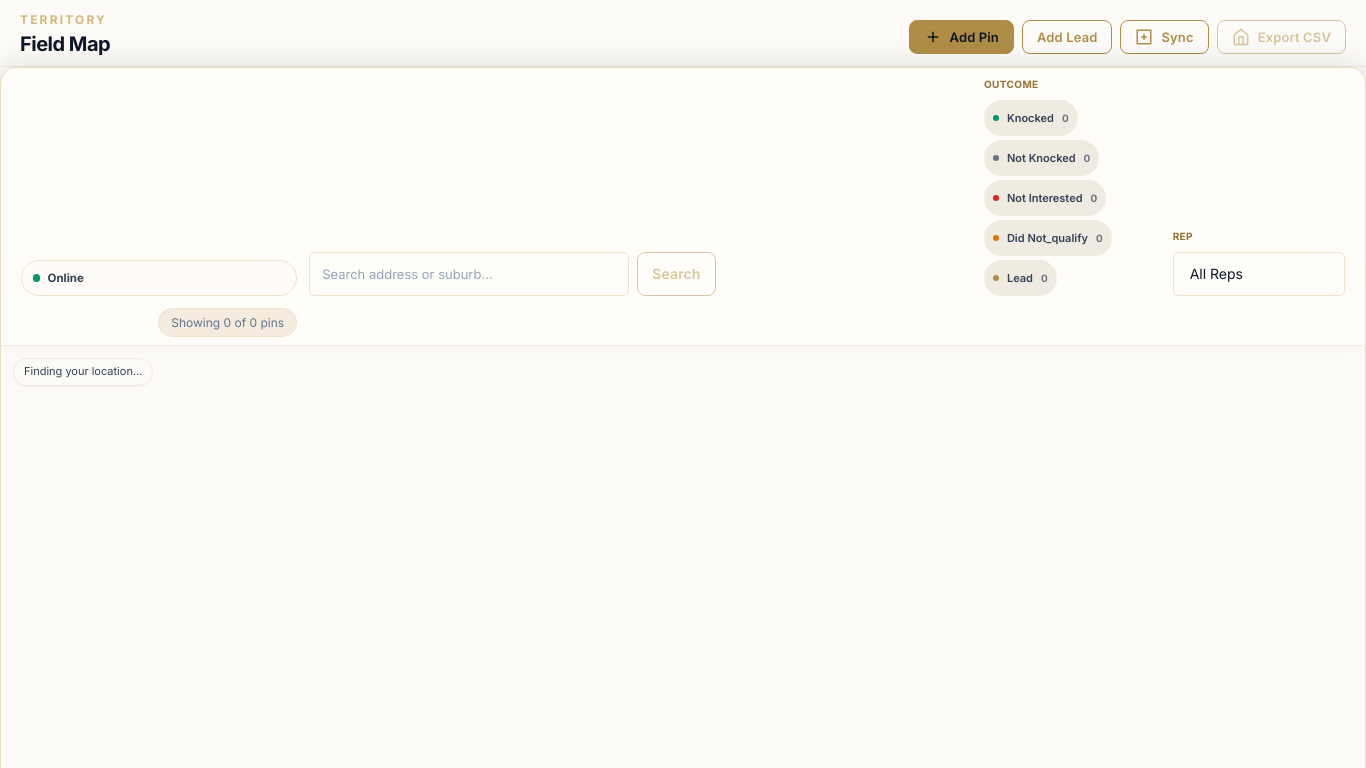
MapPage - Add Pin Workflow › cancels placement mode from the visible cancel action
What coordinates should you click on to do the following:
click the button "Add Pin"
I would click on:
 (961, 37)
Its box is x1=908 y1=20 x2=1014 y2=54.
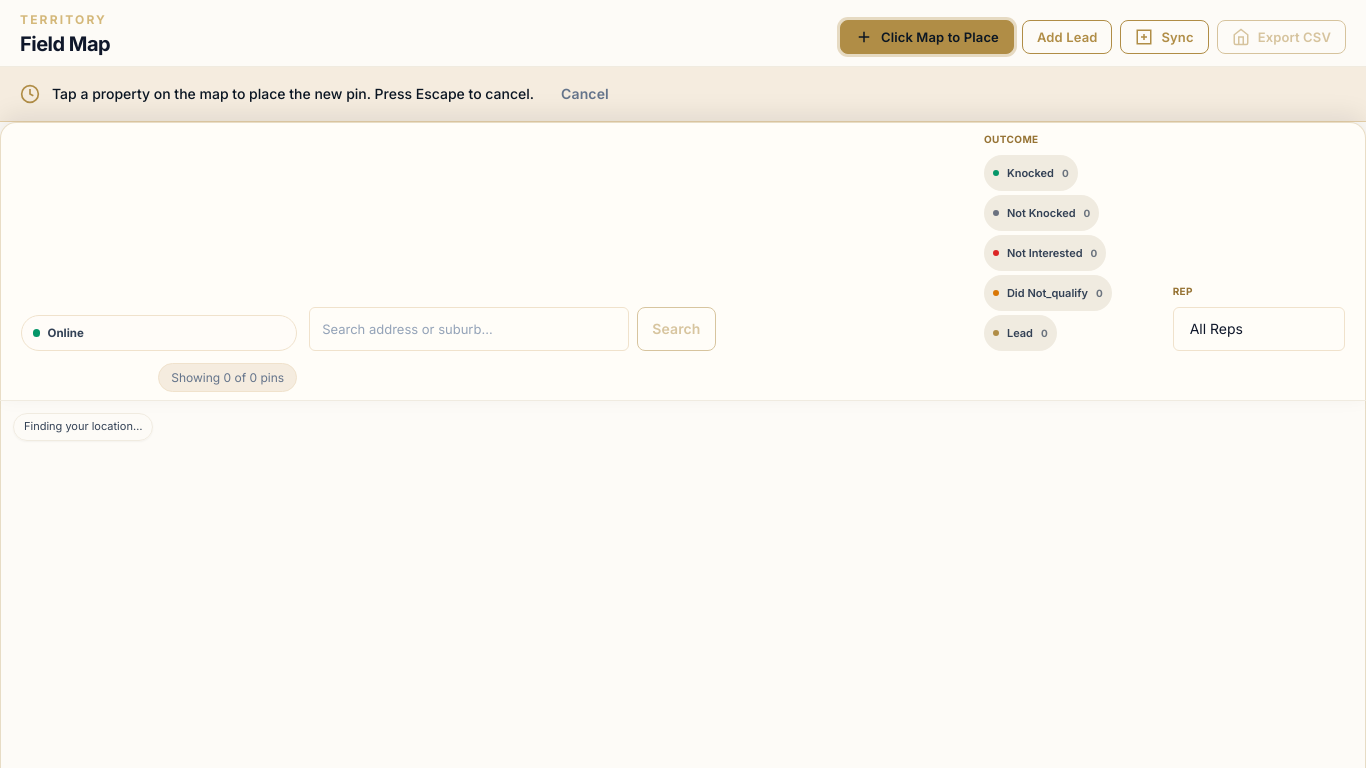
What coordinates should you click on to do the following:
click the button with aria-label "cancel pin placement"
I would click on:
 (585, 94)
Its box is x1=546 y1=79 x2=624 y2=109.
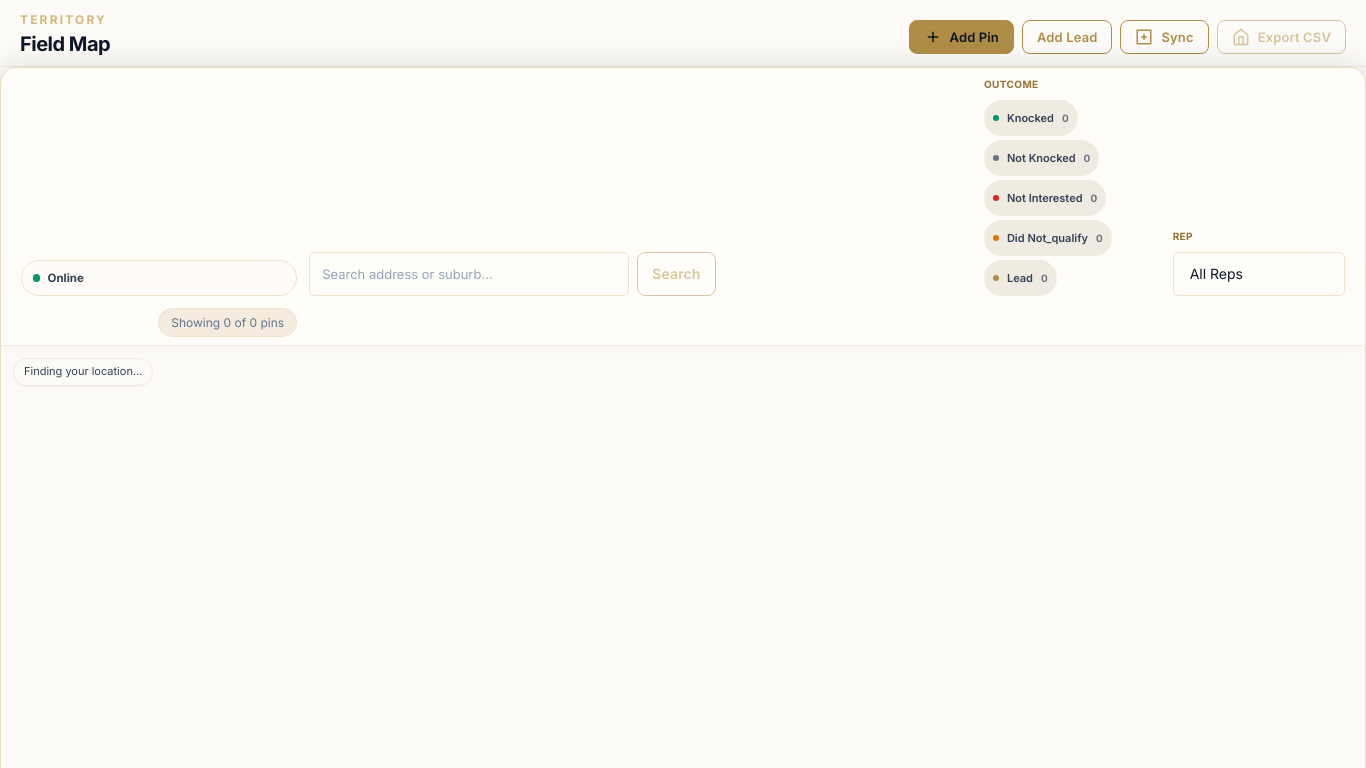
Expected: the text "Tap a property on the map to place the new pin" is gone
